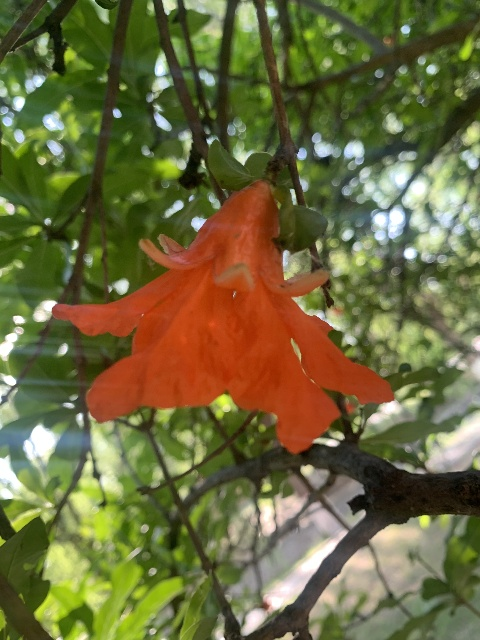flower: (52, 181, 393, 456)
